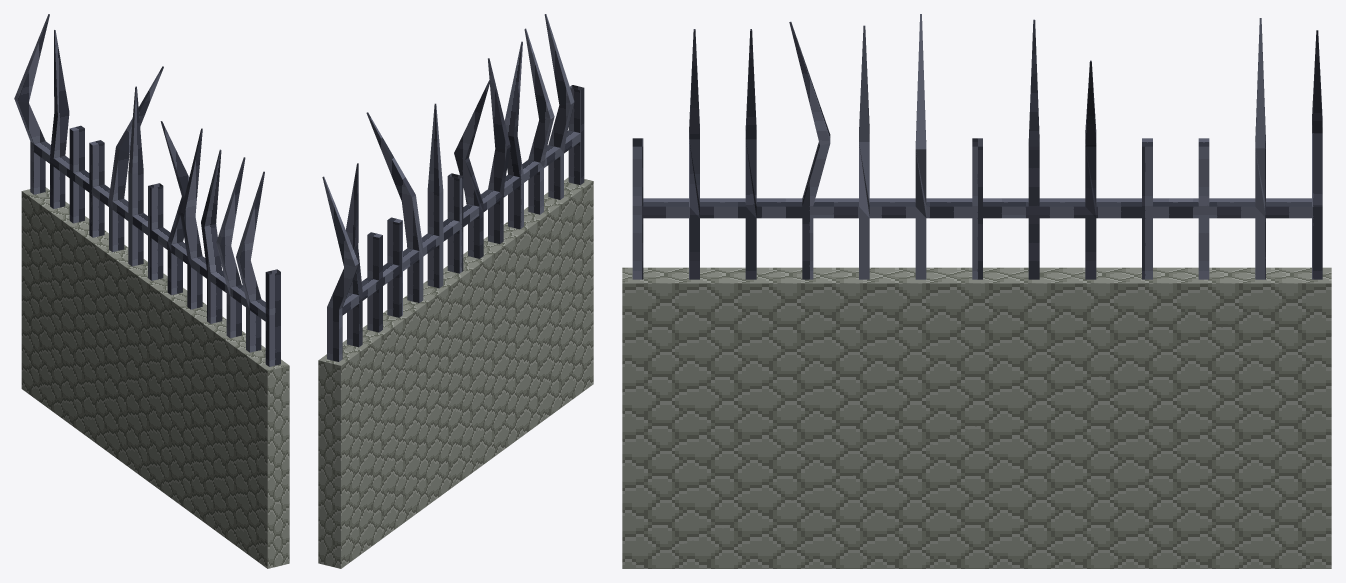
The model's file is Muro com cerca.fbx.
The picture shows the model from 3 angles, left to right: view 1: azimuth 30°, elevation 25°; view 2: azimuth 150°, elevation 25°; view 3: azimuth 270°, elevation 25°; orthographic projection. The views are drawn at different scales.
Parts seen in each view (by area): view 1: Box002, Box001; view 2: Box002, Box001; view 3: Box002, Box001.
Part boxes in pixels (left/top/right/bottom): Box002: left=21, top=187, right=289, bottom=568; Box001: left=14, top=14, right=280, bottom=366; Box002: left=318, top=177, right=593, bottom=568; Box001: left=322, top=14, right=584, bottom=361; Box002: left=622, top=267, right=1331, bottom=568; Box001: left=632, top=14, right=1322, bottom=279.
Size of the model in its own units: 31.35 by 162 by 193.
2 materials, 2 textured.
